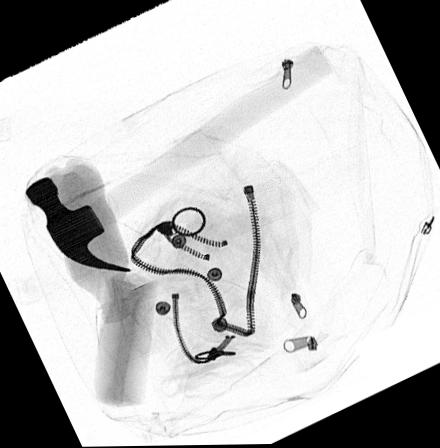Hammer: (24, 44, 332, 272)
